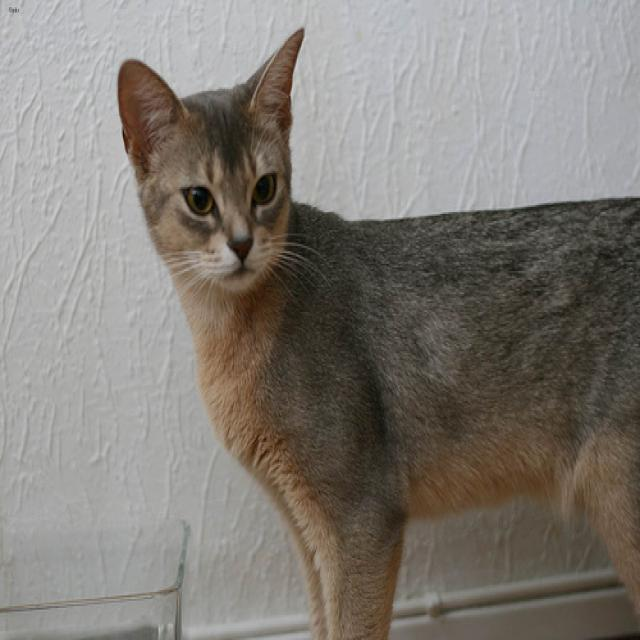Abyssinian: (116, 25, 304, 291)
